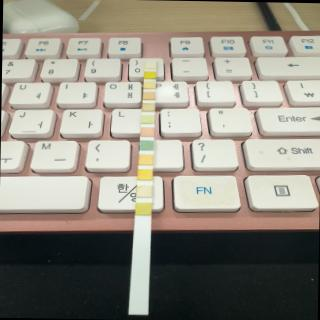mark: (136, 184, 152, 197), (135, 202, 151, 214), (137, 168, 152, 180), (139, 139, 153, 150), (138, 154, 152, 164), (140, 126, 154, 136), (140, 115, 154, 124), (142, 102, 154, 111), (142, 92, 155, 100), (144, 81, 156, 89), (144, 72, 156, 78), (144, 62, 156, 68)
